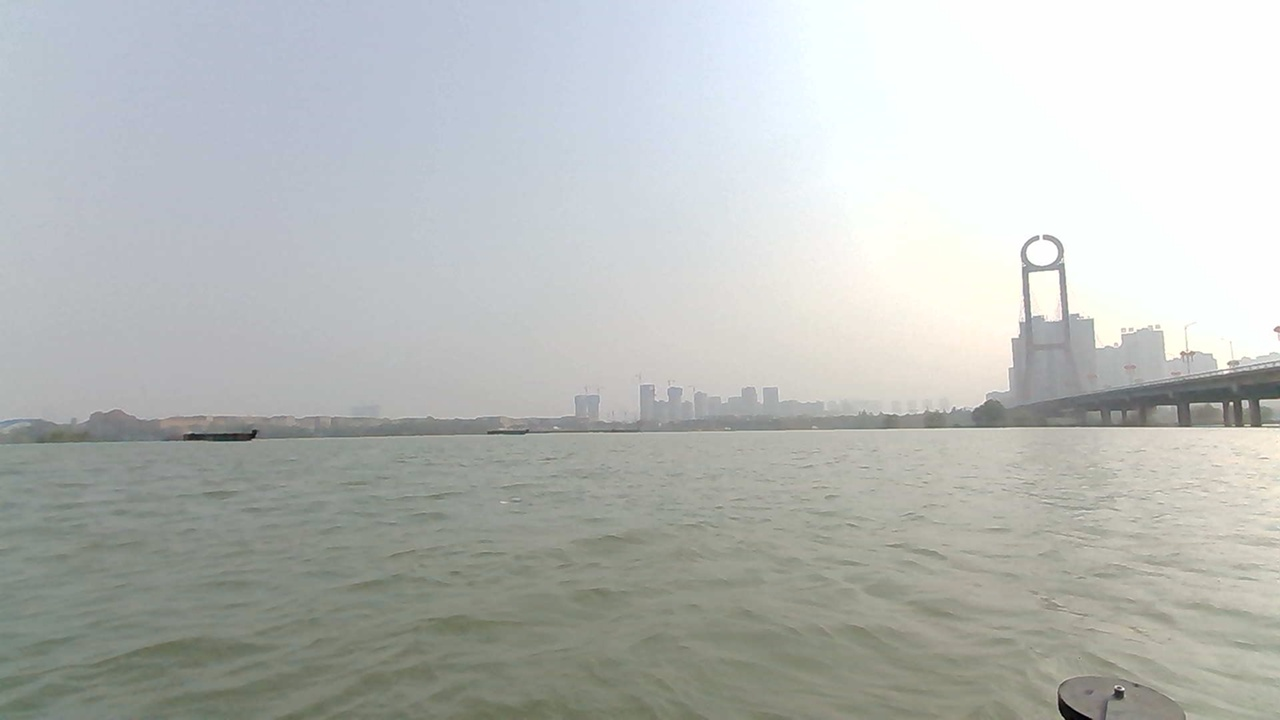bottle: (497, 492, 571, 518)
